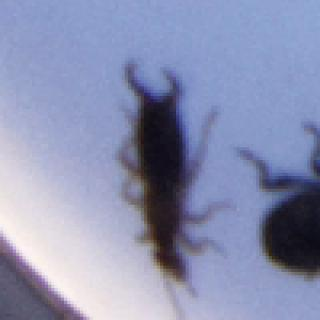earwig: (99, 48, 234, 320)
